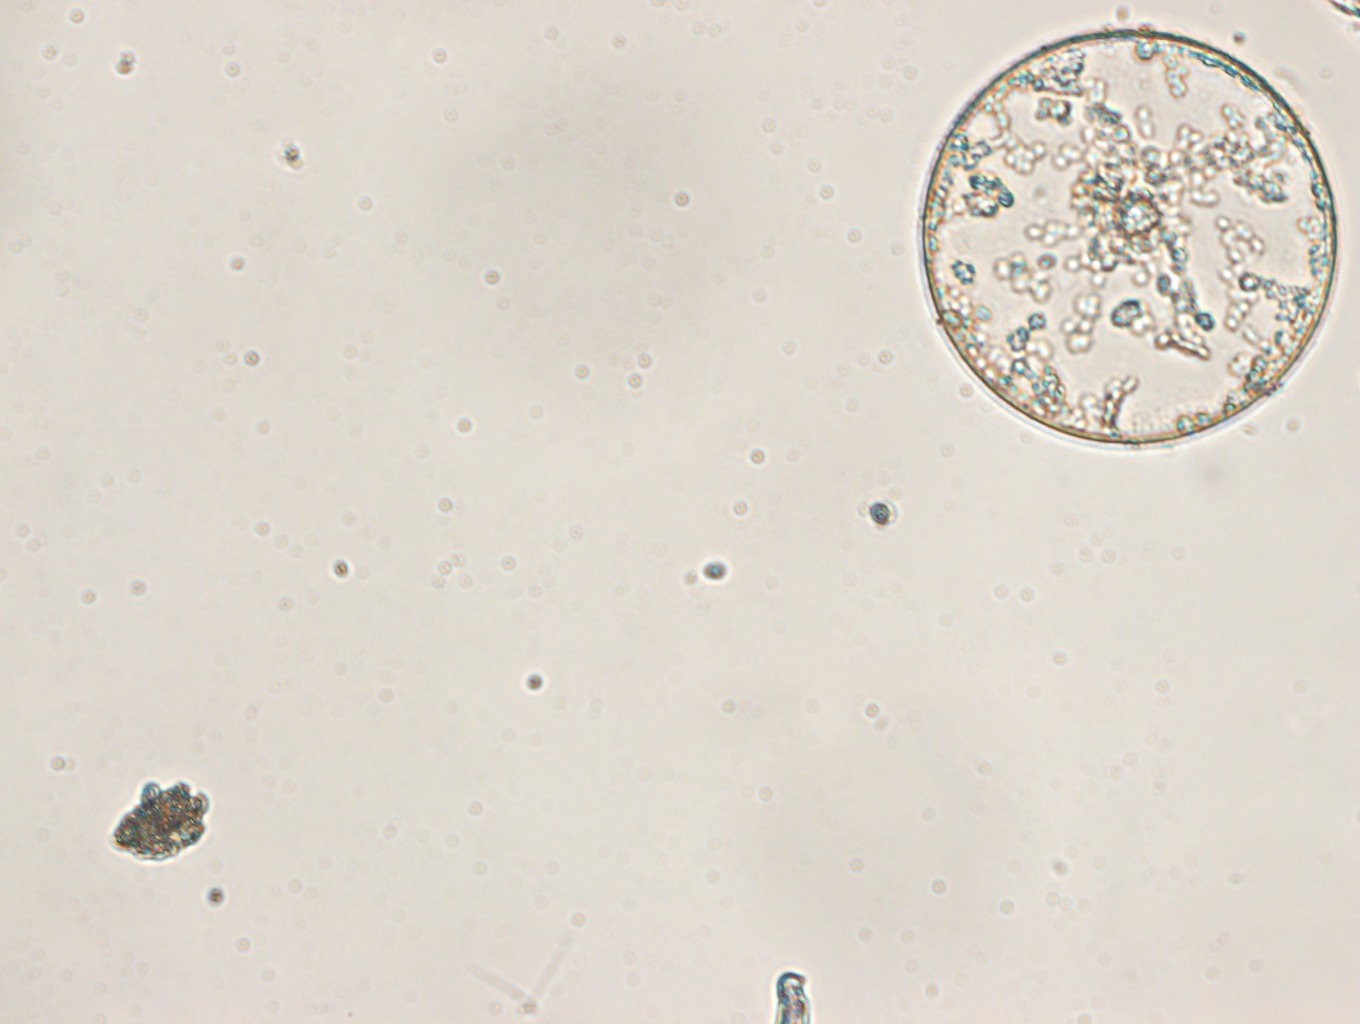coscinodiscus: (910, 17, 1349, 459)
